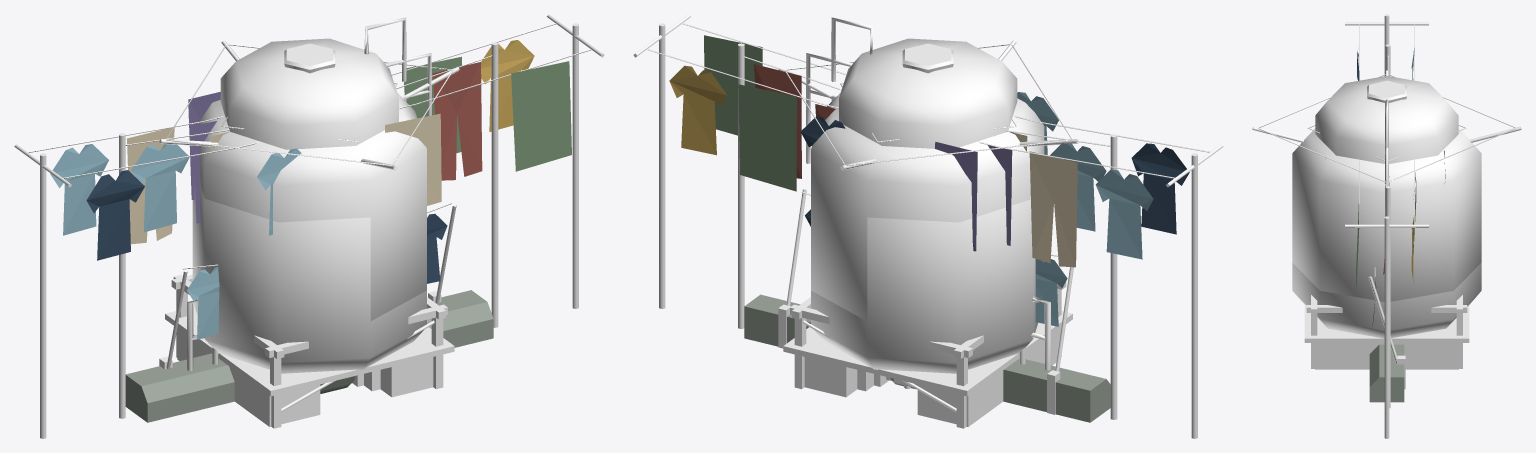
Rendered from extkit_lod.glb.
The picture shows the model from 3 angles, left to right: view 1: azimuth 30°, elevation 25°; view 2: azimuth 150°, elevation 25°; view 3: azimuth 270°, elevation 25°; orthographic projection. The views are drawn at different scales.
Parts seen in each view (by area): view 1: extkit_tank_2000_black_block_lod1-1, extkit_tank_2000_black_steel_lod1-1, extkit_laundry_roof_lod1-2, extkit_tank_1000_black_raised_lod1-1, extkit_tank_2000_black_block_lod1-0, extkit_laundry_pole_lod1-2, extkit_shutter_260_lod1-0, extkit_laundry_roof_lod1-0, extkit_laundry_rotary_lod1-2, extkit_laundry_pole_lod1-0, extkit_tank_2000_black_steel_lod1-0, extkit_laundry_balcony_lod1-2 (+7 smaller); view 2: extkit_tank_2000_black_block_lod1-1, extkit_laundry_roof_lod1-2, extkit_tank_2000_black_steel_lod1-1, extkit_tank_1000_black_raised_lod1-1, extkit_tank_2000_black_block_lod1-0, extkit_shutter_260_lod1-0, extkit_laundry_roof_lod1-0, extkit_laundry_pole_lod1-2, extkit_laundry_pole_lod1-0, extkit_tank_2000_black_steel_lod1-0, extkit_laundry_rotary_lod1-2, extkit_laundry_balcony_lod1-0 (+7 smaller); view 3: extkit_tank_2000_black_steel_lod1-1, extkit_tank_1000_black_raised_lod1-1, extkit_tank_2000_black_block_lod1-1, extkit_tank_2000_black_block_lod1-0, extkit_laundry_roof_lod1-0, extkit_shutter_260_lod1-0, extkit_tank_2000_black_steel_lod1-0, extkit_laundry_rotary_lod1-1, extkit_laundry_pole_lod1-0, extkit_laundry_roof_lod1-2, extkit_laundry_rotary_lod1-0, extkit_laundry_balcony_lod1-0 (+1 smaller).
Boxes of the visible parts, x1,y1,x2,y2 form: extkit_tank_2000_black_block_lod1-1: (192, 180, 426, 373); extkit_tank_2000_black_steel_lod1-1: (198, 92, 426, 320); extkit_laundry_roof_lod1-2: (50, 40, 571, 260); extkit_tank_1000_black_raised_lod1-1: (220, 38, 398, 149); extkit_tank_2000_black_block_lod1-0: (165, 306, 454, 426); extkit_laundry_pole_lod1-2: (131, 62, 482, 232); extkit_shutter_260_lod1-0: (125, 290, 493, 422); extkit_laundry_roof_lod1-0: (14, 14, 604, 438); extkit_laundry_rotary_lod1-2: (188, 92, 441, 235); extkit_laundry_pole_lod1-0: (119, 42, 498, 418); extkit_tank_2000_black_steel_lod1-0: (171, 274, 447, 428); extkit_laundry_balcony_lod1-2: (187, 213, 447, 339); extkit_tank_2000_black_block_lod1-1: (811, 199, 1044, 373); extkit_laundry_roof_lod1-2: (669, 35, 1189, 267); extkit_tank_2000_black_steel_lod1-1: (811, 92, 1044, 320); extkit_tank_1000_black_raised_lod1-1: (839, 38, 1017, 148); extkit_tank_2000_black_block_lod1-0: (783, 311, 1072, 426); extkit_shutter_260_lod1-0: (744, 294, 1110, 422); extkit_laundry_roof_lod1-0: (633, 14, 1223, 438); extkit_laundry_pole_lod1-2: (754, 64, 1106, 231); extkit_laundry_pole_lod1-0: (738, 43, 1117, 419); extkit_tank_2000_black_steel_lod1-0: (790, 281, 1066, 428); extkit_laundry_rotary_lod1-2: (800, 92, 1058, 251); extkit_laundry_balcony_lod1-0: (778, 189, 1073, 414); extkit_tank_2000_black_steel_lod1-1: (1292, 128, 1481, 301); extkit_tank_1000_black_raised_lod1-1: (1315, 76, 1458, 163); extkit_tank_2000_black_block_lod1-1: (1292, 263, 1481, 338); extkit_tank_2000_black_block_lod1-0: (1304, 305, 1469, 369); extkit_laundry_roof_lod1-0: (1345, 14, 1428, 438); extkit_shutter_260_lod1-0: (1369, 350, 1404, 402); extkit_tank_2000_black_steel_lod1-0: (1306, 295, 1467, 368); extkit_laundry_rotary_lod1-1: (1258, 73, 1515, 182); extkit_laundry_pole_lod1-0: (1385, 44, 1390, 408); extkit_laundry_roof_lod1-2: (1356, 48, 1416, 291); extkit_laundry_rotary_lod1-0: (1252, 70, 1521, 186); extkit_laundry_balcony_lod1-0: (1368, 276, 1405, 389).
Size of the model in its own units: 4.05 by 2.38 by 2.25.
